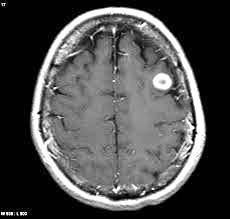Tumor: (150, 72, 176, 92)
